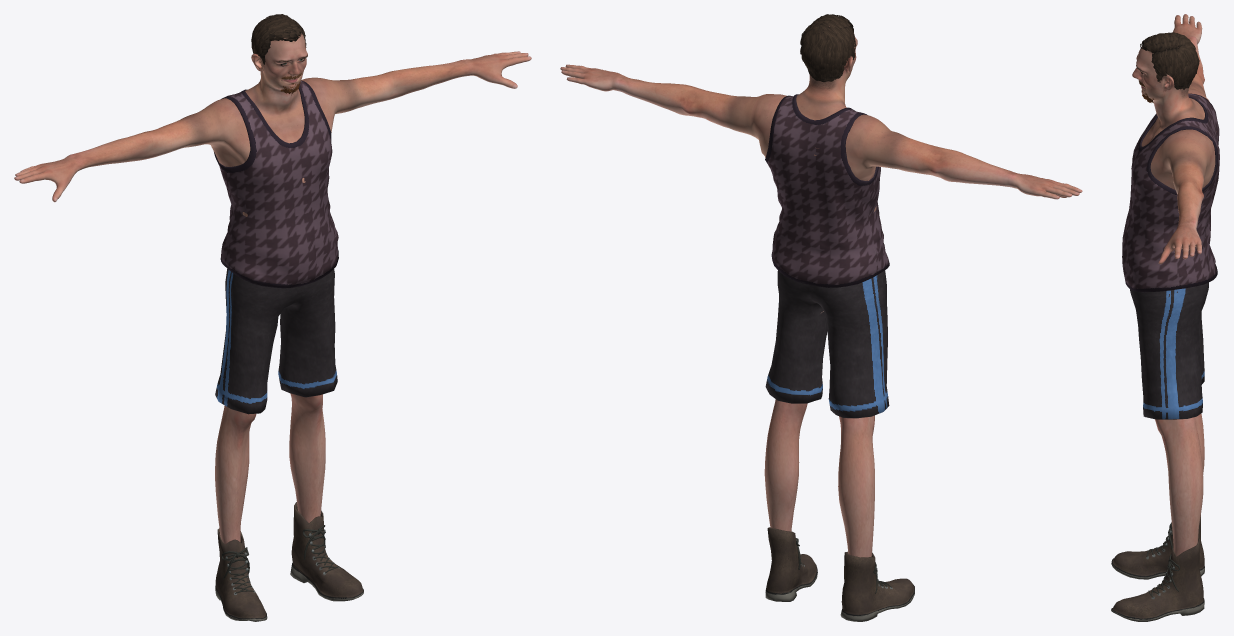
File: CharacterObj.obj
3 views of the same model, side by side, from view 1: azimuth 30°, elevation 25°; view 2: azimuth 150°, elevation 25°; view 3: azimuth 270°, elevation 25° (orthographic). The views are drawn at different scales.
Parts seen in each view (by area): view 1: Body, Tops, Bottoms, Shoes, Hair; view 2: Body, Tops, Bottoms, Shoes, Hair; view 3: Body, Tops, Bottoms, Shoes, Hair.
Part boxes in pixels (left/top/right/bottom): Body: left=14, top=24, right=531, bottom=544; Tops: left=214, top=80, right=338, bottom=288; Bottoms: left=215, top=269, right=337, bottom=414; Shoes: left=215, top=502, right=363, bottom=621; Hair: left=251, top=14, right=306, bottom=64; Body: left=560, top=19, right=1082, bottom=557; Tops: left=765, top=94, right=889, bottom=287; Bottoms: left=765, top=270, right=889, bottom=418; Shoes: left=765, top=527, right=914, bottom=621; Hair: left=800, top=14, right=855, bottom=82; Body: left=1132, top=14, right=1216, bottom=556; Tops: left=1122, top=93, right=1219, bottom=292; Bottoms: left=1130, top=282, right=1208, bottom=419; Shoes: left=1111, top=515, right=1204, bottom=621; Hair: left=1140, top=32, right=1199, bottom=89.
Size of the model in its own units: 194 by 208 by 36.77.
Materials: 7 (7 with a texture image).
